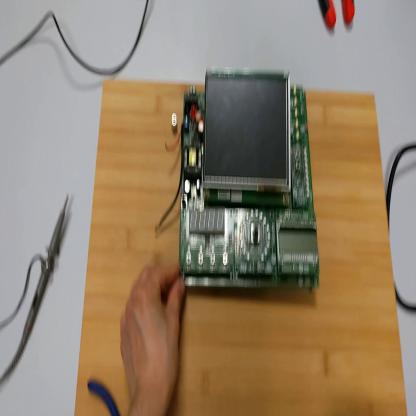hand: (119, 264, 185, 403)
low voltage board: (155, 75, 320, 295)
oscilloscope probe tip: (11, 191, 70, 375)
pliers: (319, 1, 358, 32), (88, 383, 119, 413)
working area: (76, 85, 407, 416)
